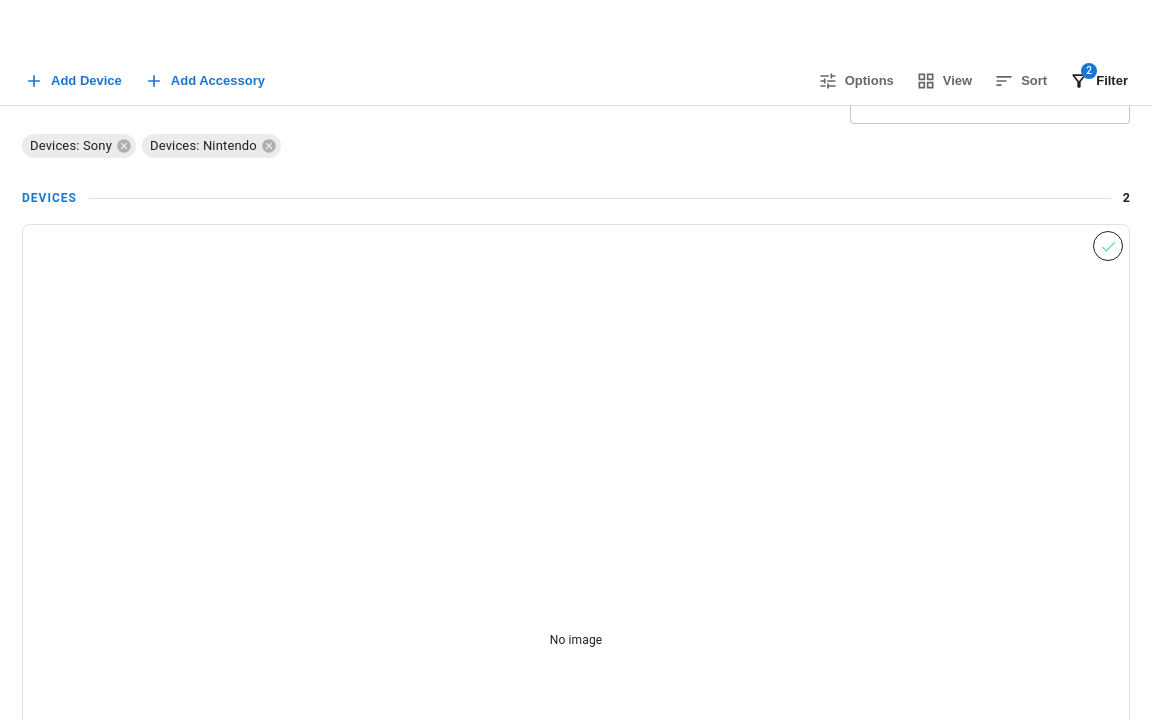
Test: HardwarePage › removes a filter from its chip and forgets it
Click the icon named "Remove filter Devices: Sony".
click(124, 146)  # box [116,138,132,154]
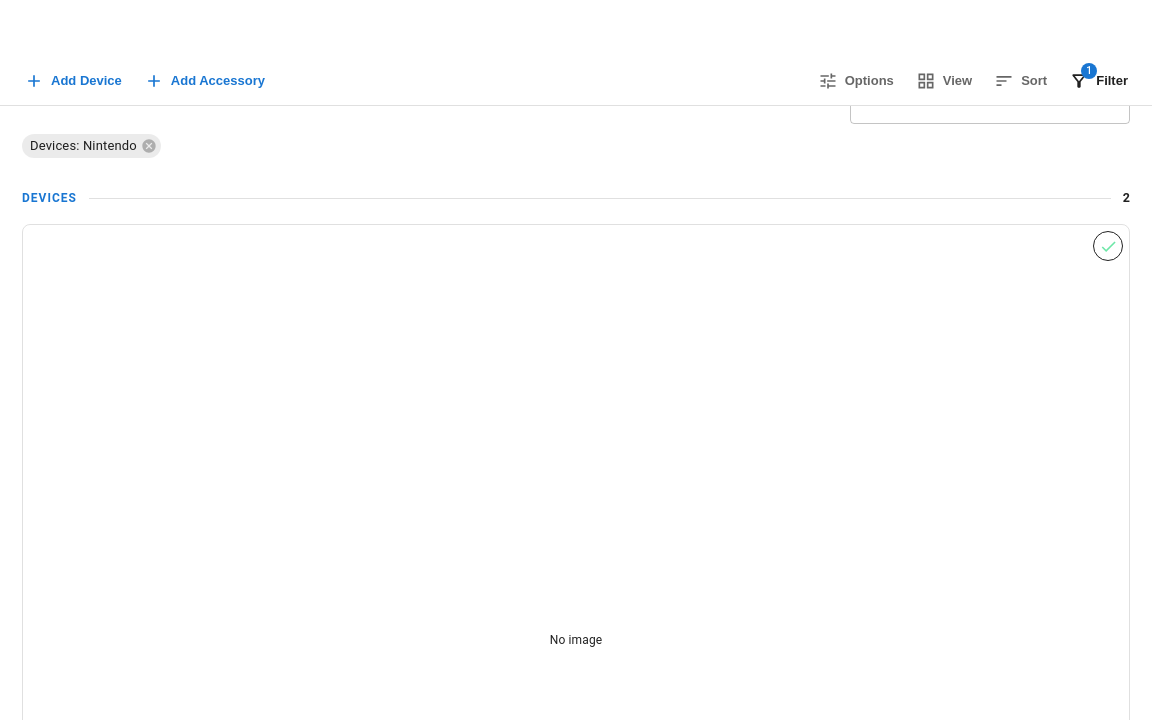
Check: the text "Devices: Nintendo" is shown, box [22,136,145,156]
Check: the button "Devices: Sony" is gone
